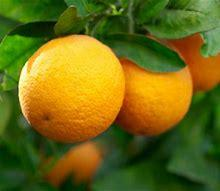orange: (6, 36, 130, 145), (113, 45, 200, 129)
